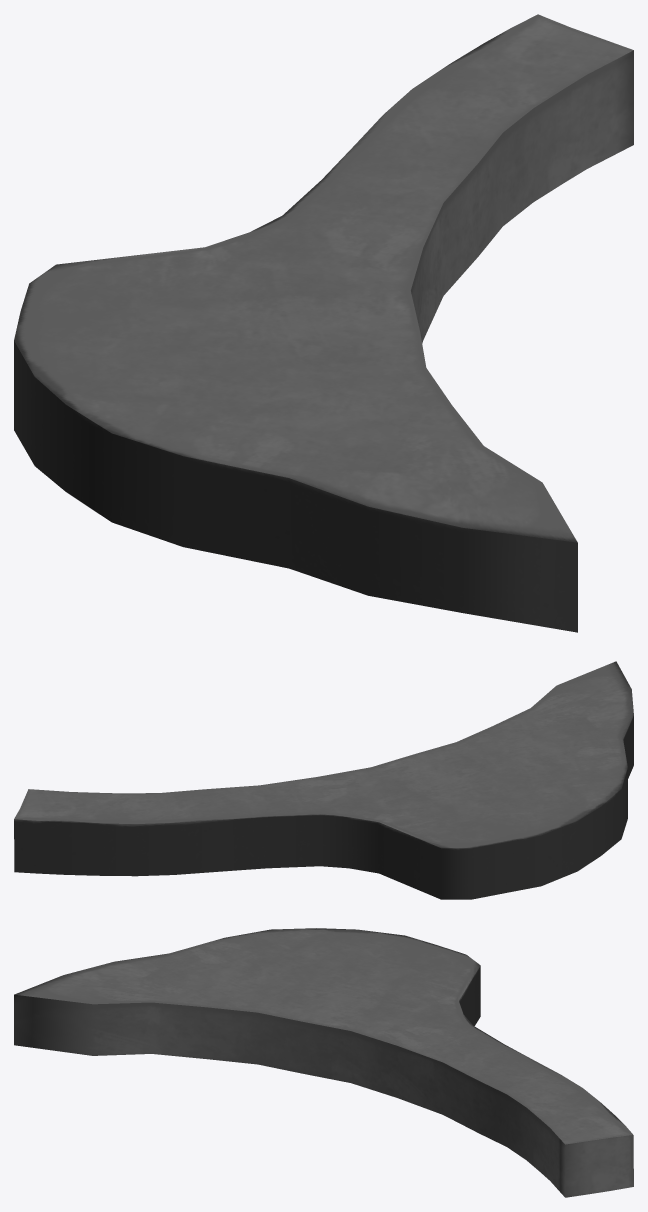
File: frontLevelBase_uv1.fbx
3 renders of one model, top to bottom at view 1: azimuth 30°, elevation 25°; view 2: azimuth 150°, elevation 25°; view 3: azimuth 270°, elevation 25°, orthographic. The views are drawn at different scales.
Parts seen in each view (by area): view 1: frontLevelBase_uv1; view 2: frontLevelBase_uv1; view 3: frontLevelBase_uv1.
Boxes of the visible parts, x1=… form: frontLevelBase_uv1: x1=14, y1=14, x2=633, y2=632; frontLevelBase_uv1: x1=14, y1=661, x2=633, y2=899; frontLevelBase_uv1: x1=14, y1=928, x2=633, y2=1197.
Bounding box in the file's own units: 50.59 × 5.81 × 61.25.
